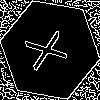X: (25, 25, 76, 72)
